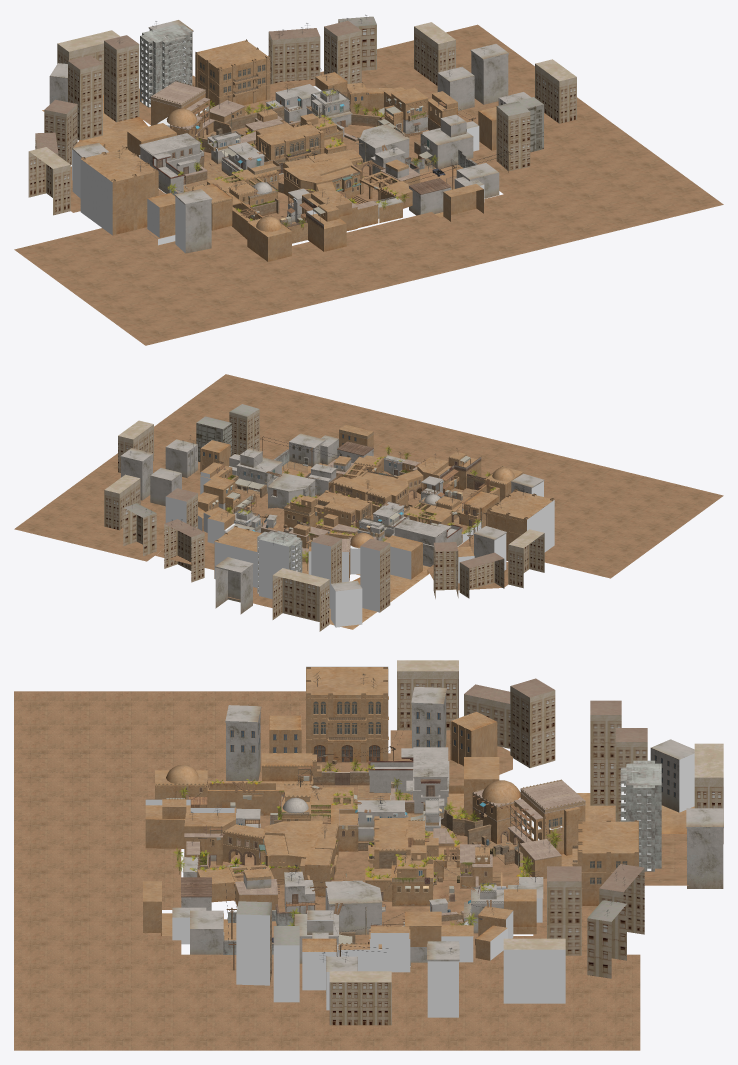
File: sandstone.glb
3 views of the same model, one above another, from view 1: azimuth 30°, elevation 25°; view 2: azimuth 150°, elevation 25°; view 3: azimuth 270°, elevation 25° (orthographic). The views are drawn at different scales.
Parts seen in each view (by area): view 1: Sandstone_one, Sandstone_two, LightMap_Mesh, Cutout_2sided, Sandstone_Decals; view 2: Sandstone_one, Sandstone_two, LightMap_Mesh, Cutout_2sided, Sandstone_Decals; view 3: Sandstone_one, Sandstone_two, LightMap_Mesh, Cutout_2sided, Sandstone_Decals.
Boxes of the visible parts, x1=… form: Sandstone_one: x1=14, y1=20, x2=723, y2=345; Sandstone_two: x1=28, y1=16, x2=576, y2=231; LightMap_Mesh: x1=72, y1=36, x2=484, y2=252; Cutout_2sided: x1=152, y1=81, x2=461, y2=231; Sandstone_Decals: x1=118, y1=15, x2=456, y2=218; Sandstone_one: x1=14, y1=374, x2=723, y2=629; Sandstone_two: x1=104, y1=404, x2=544, y2=631; LightMap_Mesh: x1=165, y1=440, x2=554, y2=627; Cutout_2sided: x1=204, y1=445, x2=505, y2=563; Sandstone_Decals: x1=130, y1=435, x2=524, y2=548; Sandstone_one: x1=14, y1=667, x2=723, y2=1050; Sandstone_two: x1=146, y1=660, x2=723, y2=1025; LightMap_Mesh: x1=145, y1=666, x2=694, y2=1017; Cutout_2sided: x1=155, y1=752, x2=583, y2=944; Sandstone_Decals: x1=184, y1=671, x2=624, y2=962.
Size of the model in its own units: 111 by 16.36 by 93.09.
Materials: 9 (8 with a texture image).
